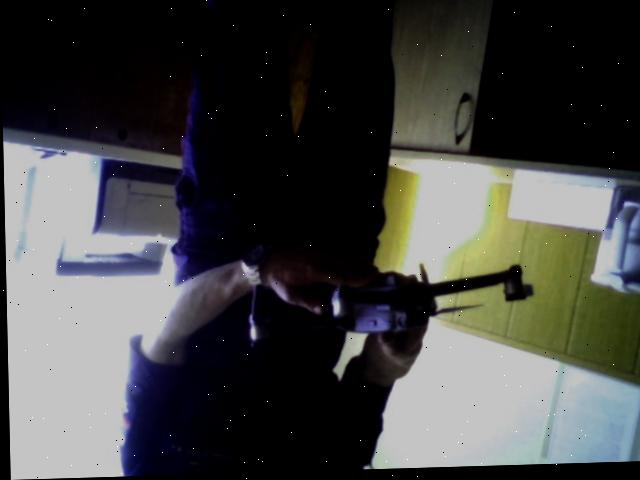drone: (235, 234, 556, 364)
